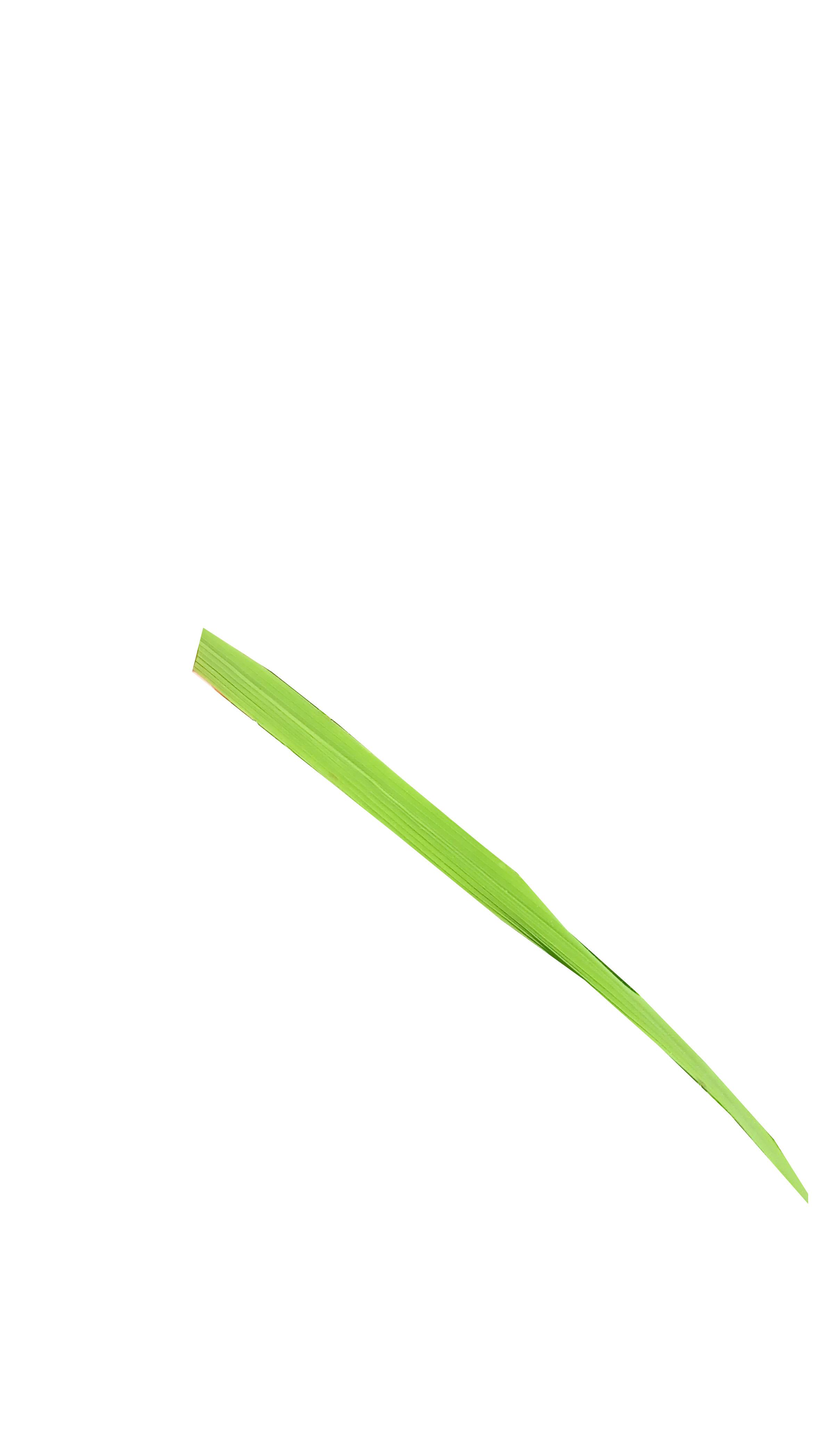Tungro: (190, 628, 808, 1204)
